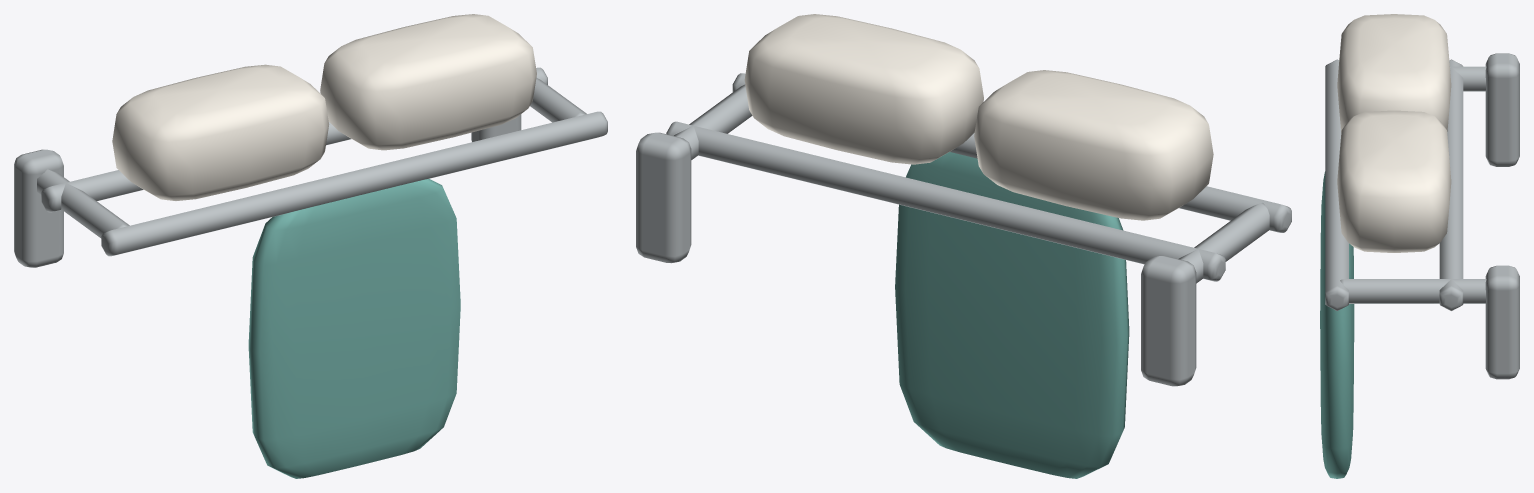
Rendered from towel_rack.glb.
The picture shows the model from 3 angles, left to right: view 1: azimuth 30°, elevation 25°; view 2: azimuth 150°, elevation 25°; view 3: azimuth 270°, elevation 25°; orthographic projection. The views are drawn at different scales.
Visible parts, largest first — view 1: towel_rack_mesh; view 2: towel_rack_mesh; view 3: towel_rack_mesh.
Part boxes in pixels (x1,y1,x2,y2): towel_rack_mesh: [14, 14, 607, 478]; towel_rack_mesh: [636, 14, 1291, 478]; towel_rack_mesh: [1320, 14, 1519, 478].
Bounding box in the file's own units: 0.48 × 0.35 × 0.175.
